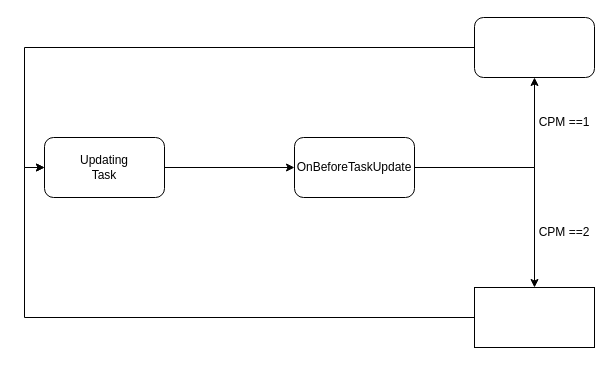
Some shapes in this 612 by 365 pixel diagram are drawn without their labels. The centre of each missing label's shape, as x and y in pixels:
"Call CPM" goes at [534,47].
"Gantt Autoschedule" goes at [534,317].
